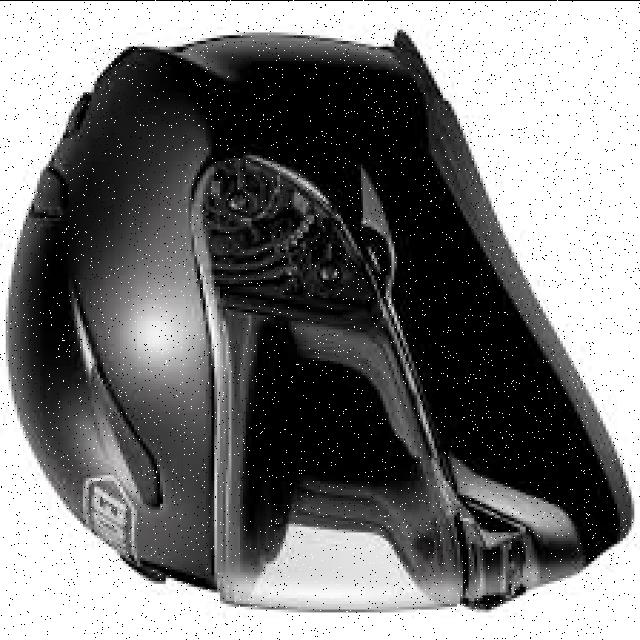Helmet: (12, 32, 631, 610)
